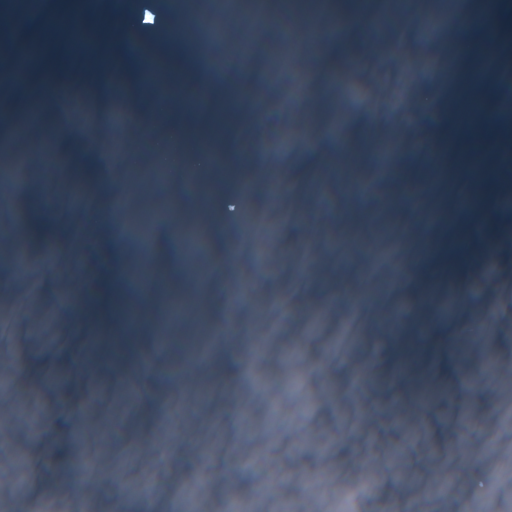Iceberg: (142, 9, 155, 23), (228, 205, 234, 210), (479, 481, 482, 486)
